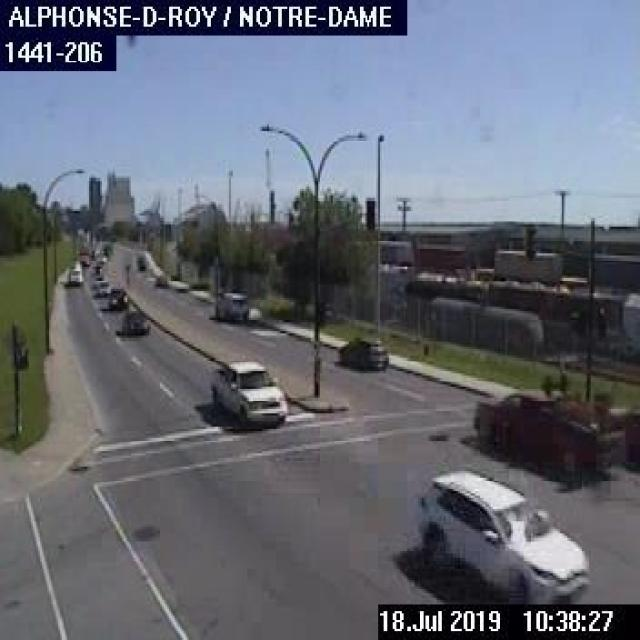vehicle: (415, 464, 589, 602), (469, 382, 624, 480), (208, 353, 287, 427), (336, 335, 389, 371), (213, 289, 249, 320), (122, 308, 146, 334), (107, 286, 127, 310), (151, 269, 169, 287), (67, 264, 82, 282), (95, 278, 109, 296), (133, 251, 145, 271)
